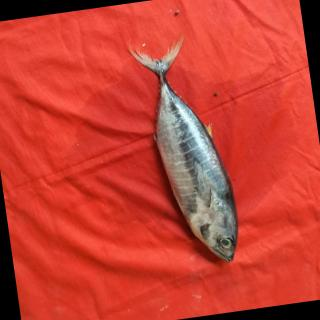Ikan: (125, 28, 262, 278)
